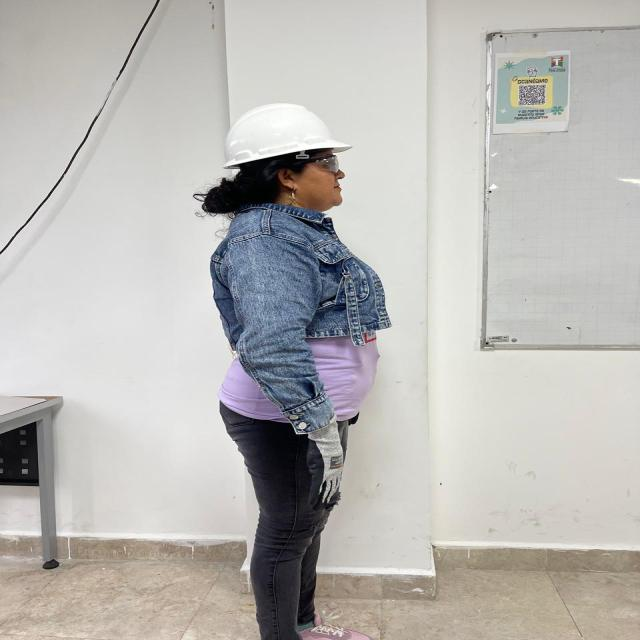protective_glasses: (297, 154, 344, 176)
